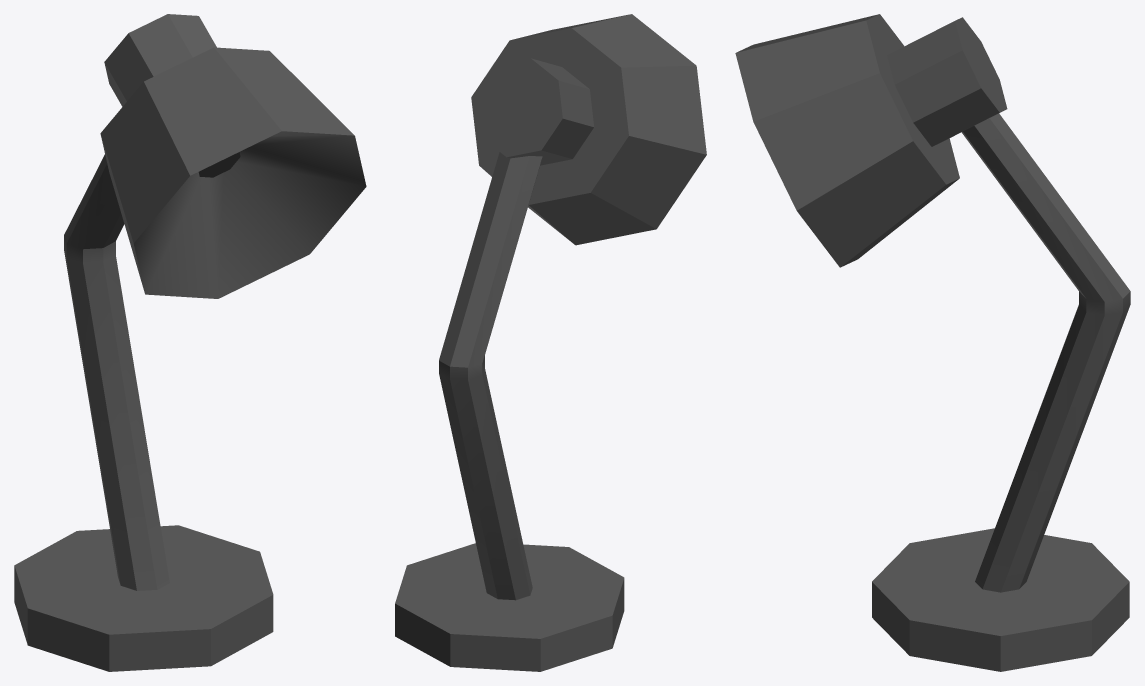
File: Lampara.fbx
The picture shows the model from 3 angles, left to right: view 1: azimuth 30°, elevation 25°; view 2: azimuth 150°, elevation 25°; view 3: azimuth 270°, elevation 25°; orthographic projection. The views are drawn at different scales.
Parts seen in each view (by area): view 1: Lampara; view 2: Lampara; view 3: Lampara.
Boxes of the visible parts, box(x1,y1,x2,y2) form: Lampara: box(14, 14, 366, 671); Lampara: box(395, 14, 706, 671); Lampara: box(735, 14, 1130, 671).
Bounding box in the file's own units: 23.48 × 59.82 × 35.89.
